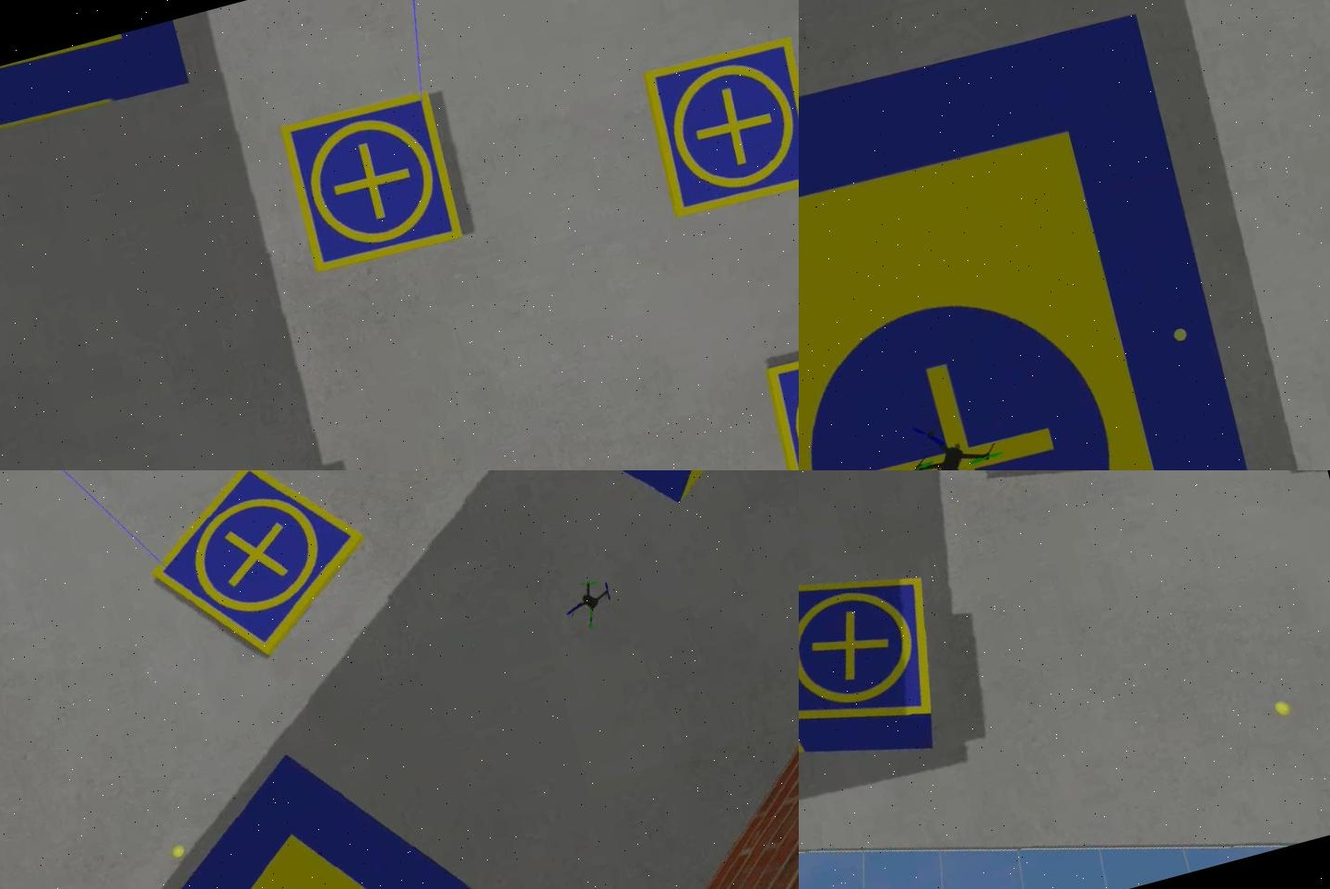large_base: (797, 5, 1281, 471), (0, 695, 630, 889)
small_base: (133, 471, 382, 677), (273, 87, 467, 277), (797, 553, 956, 757), (636, 34, 797, 221)
